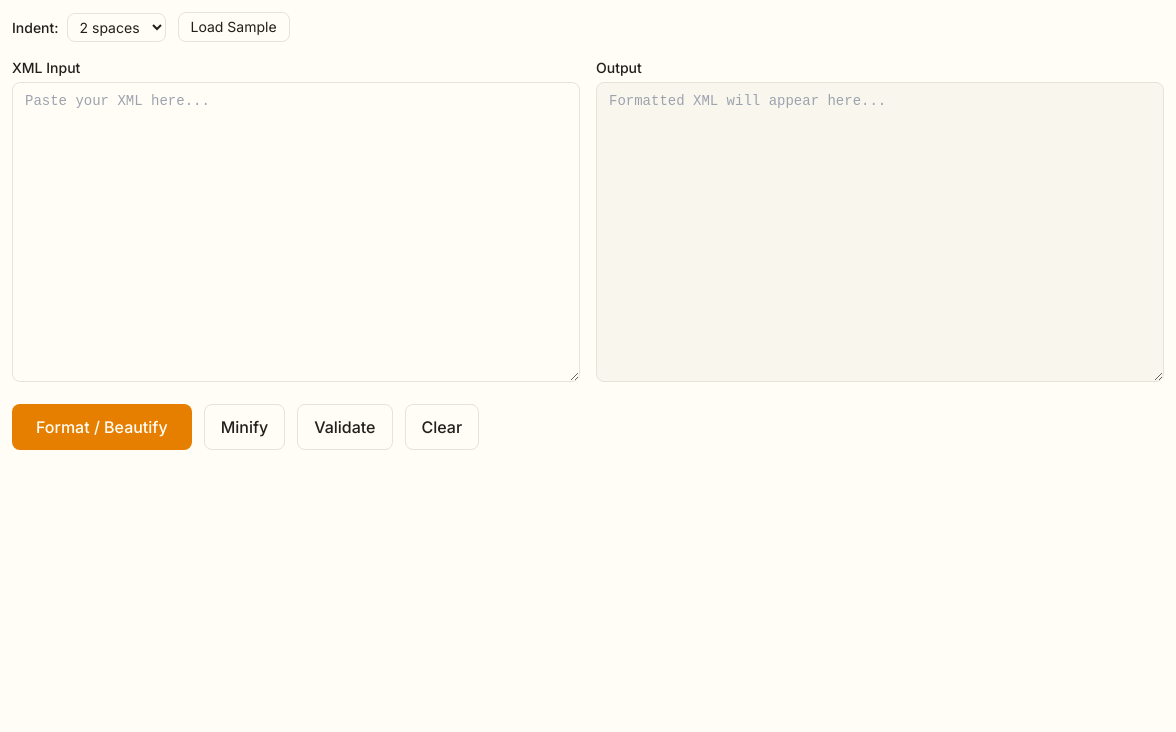
Test: XmlFormatter › detects unclosed tags
Type "<root><child>text</root>" into the text box with placeholder "Paste your XML here..." at (296, 232), box [12,82,580,382]
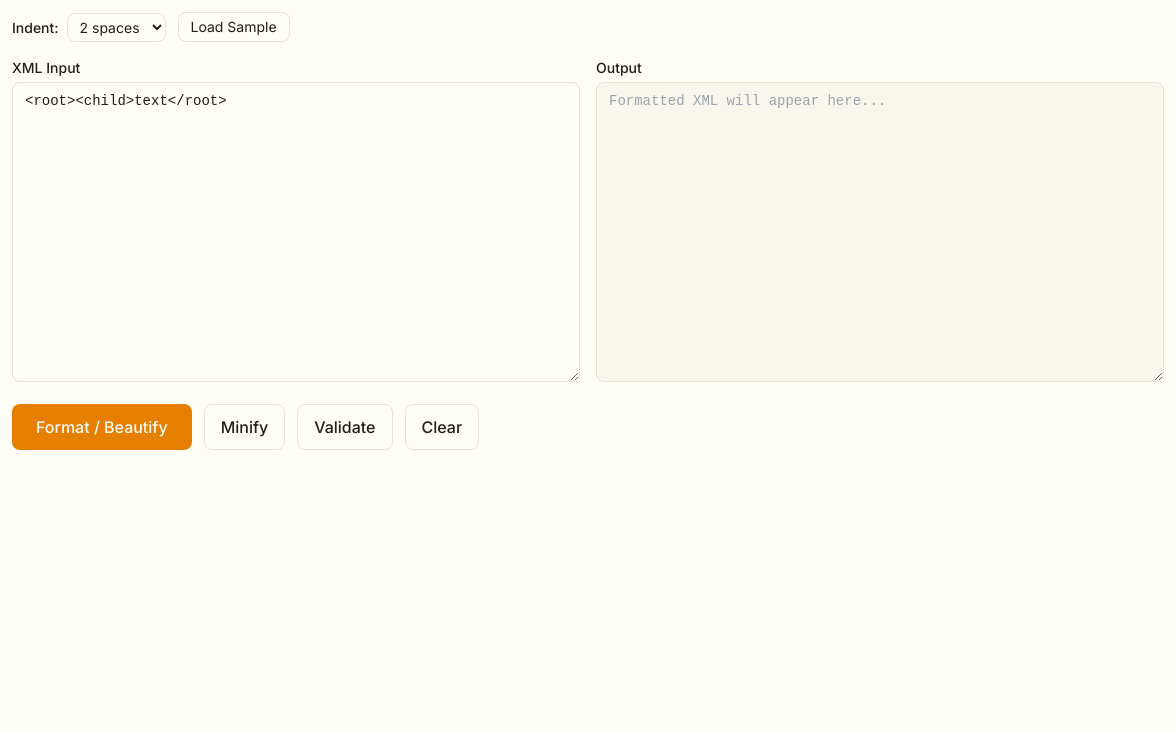
Click the button "Validate" at (345, 427), box [297,404,392,450]
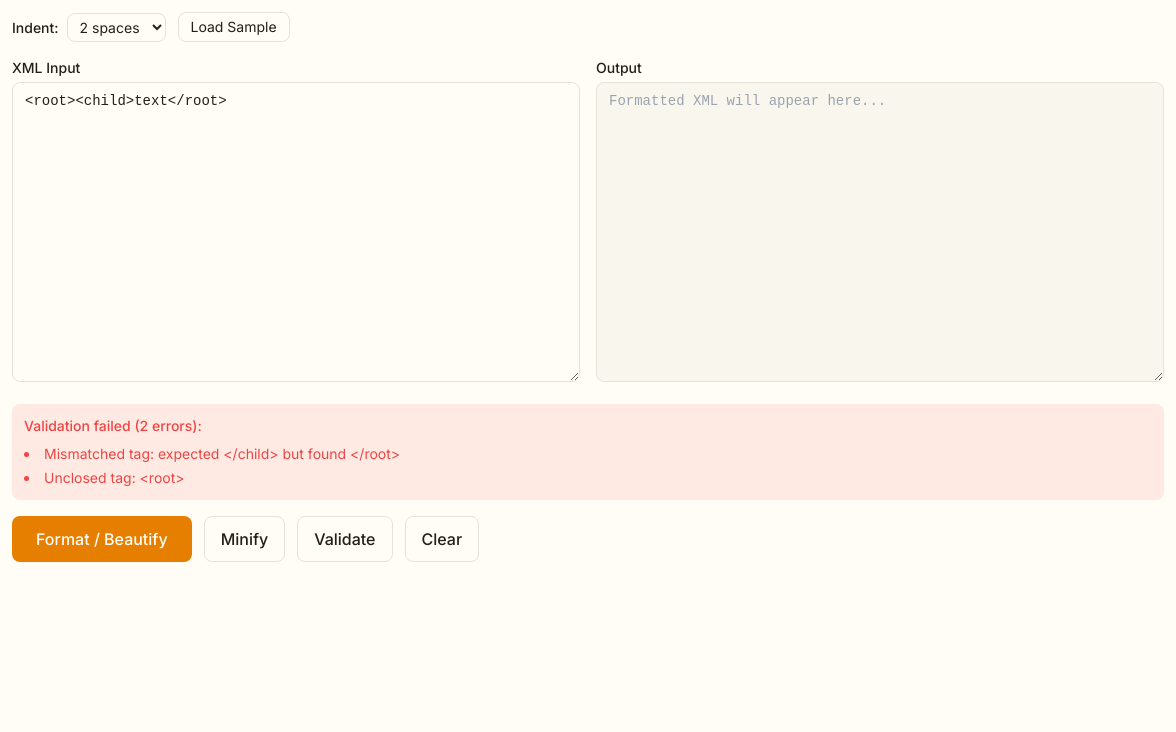
Expected: the text "Validation failed (2 errors):" is shown, [24,417,202,434]
